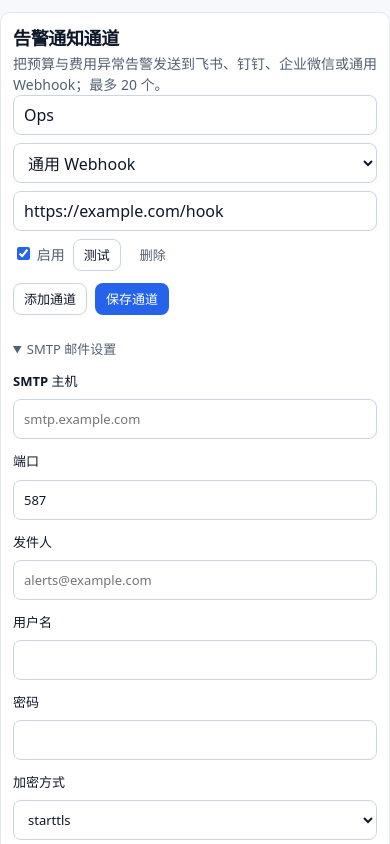
AlertChannelsCard › loads channels and sends a test notification
This screenshot has width=390, height=844.
Click the button "测试" at (97, 255), box [73,239,121,271]
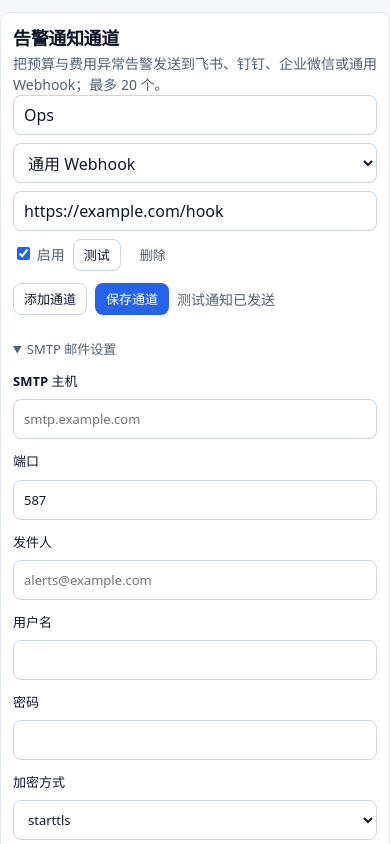
Now the text "测试通知已发送" is shown, box [177,289,275,310]
